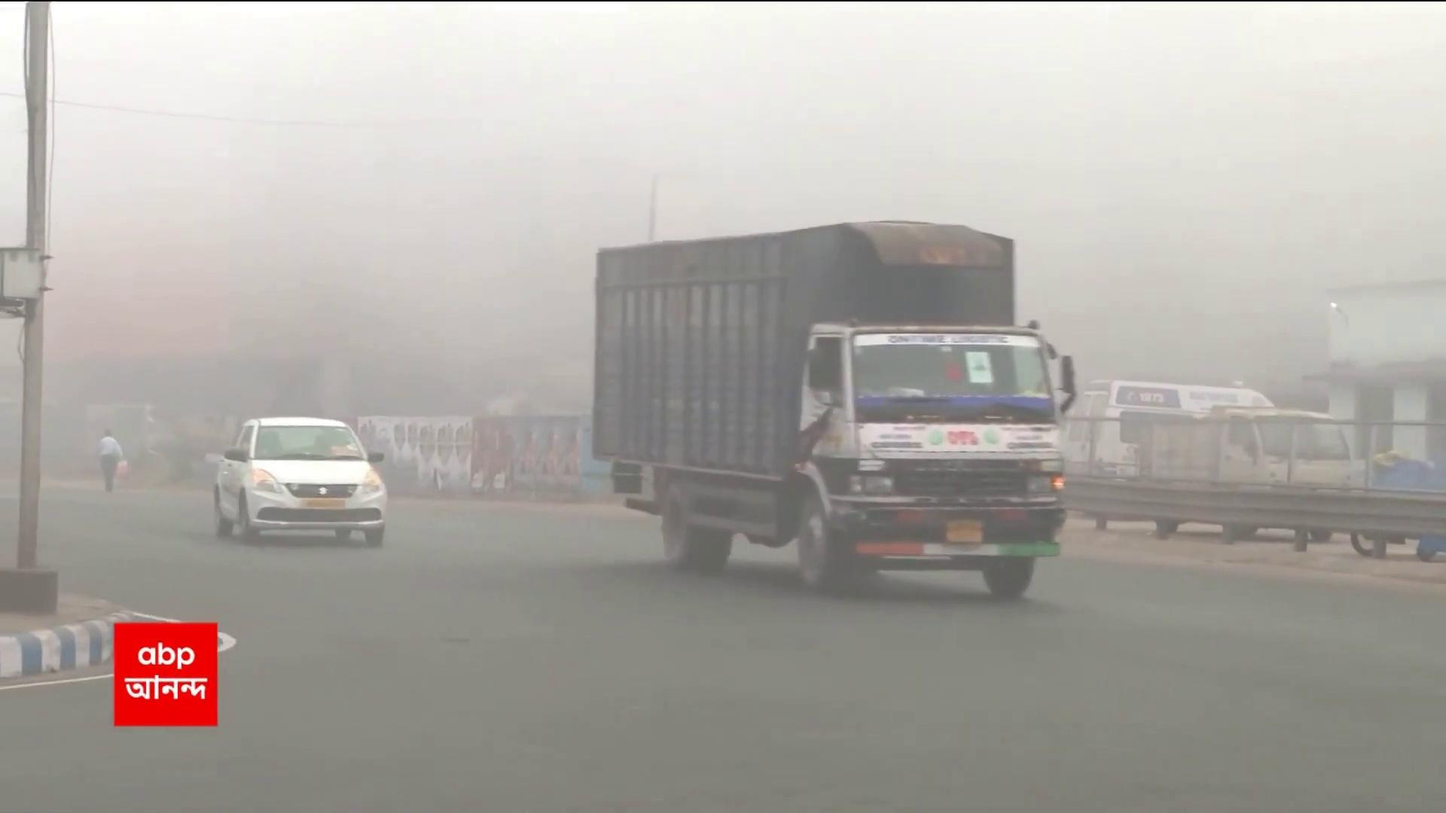Car: (212, 414, 390, 547)
Truck: (586, 216, 1070, 602)
